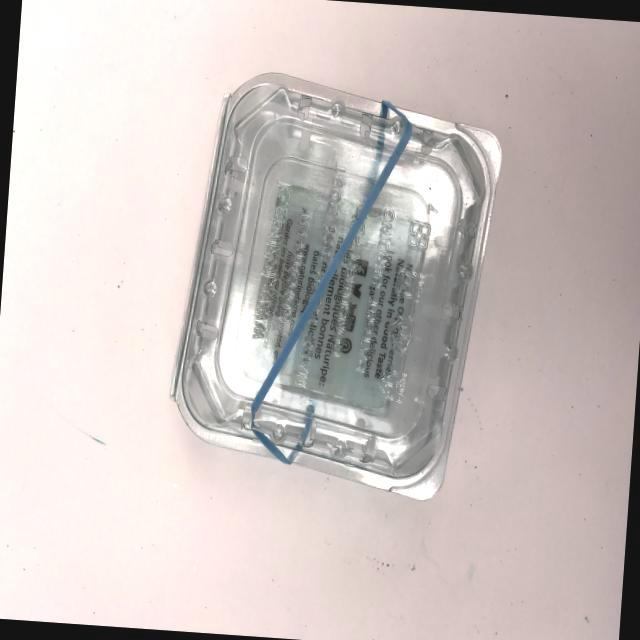plastic: (136, 19, 524, 531)
